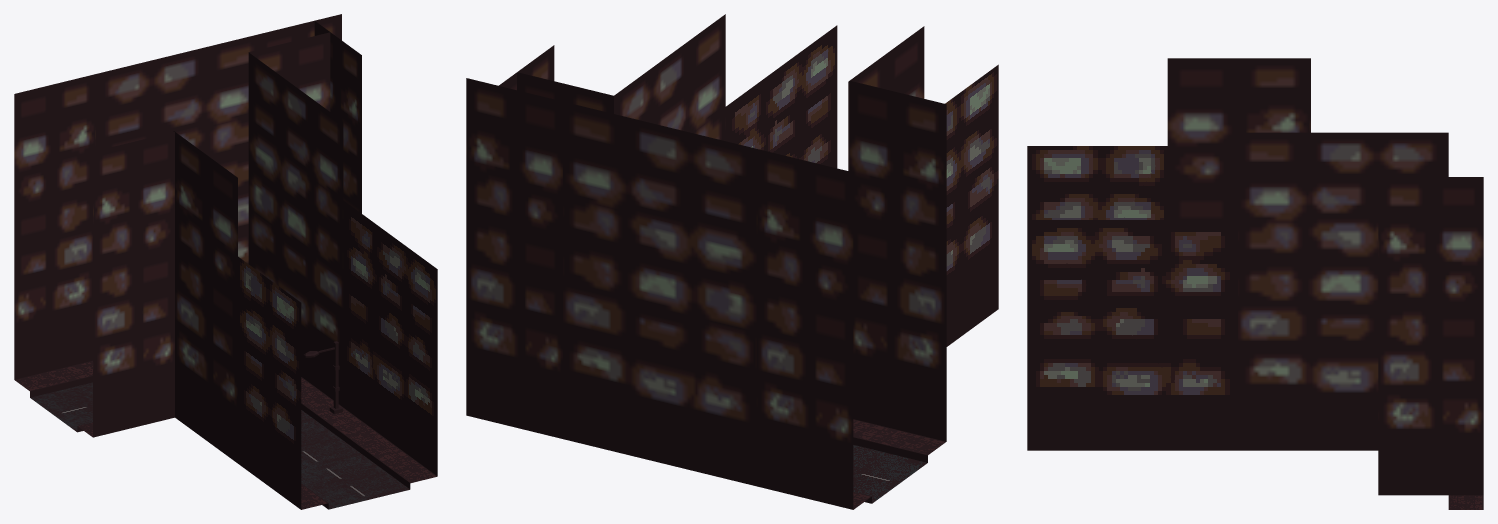
File: Turn_1.fbx
3 renders of one model, left to right at view 1: azimuth 30°, elevation 25°; view 2: azimuth 150°, elevation 25°; view 3: azimuth 270°, elevation 25°, orthographic. The views are drawn at different scales.
Parts seen in each view (by area): view 1: pPlane37, pPlane22, pPlane41, pPlane24, pPlane35, pPlane42, pPlane36, pPlane45, Road, pPlane44, Road1, Road5 (+6 smaller); view 2: pPlane42, pPlane41, pPlane43, pPlane37, pPlane36, pPlane24, pPlane22, pPlane35, Road5, pPlane44, pPlane11, pPlane45; view 3: pPlane24, pPlane22, pPlane45, pPlane35, pPlane36, pPlane40.
Boxes of the visible parts, x1,y1,x2,y2 form: pPlane37: (93,132,174,437); pPlane22: (248,52,343,406); pPlane41: (14,74,95,379); pPlane24: (343,200,437,476); pPlane35: (173,131,237,463); pPlane42: (96,34,259,263); pPlane36: (238,256,301,509); pPlane45: (314,21,361,213); Road: (301,455,409,509); pPlane44: (249,32,330,111); Road1: (301,420,362,469); Road5: (30,382,92,431); pPlane42: (563,101,756,486); pPlane41: (756,149,853,509); pPlane43: (466,78,562,438); pPlane37: (849,80,946,441); pPlane36: (945,64,998,346); pPlane24: (725,25,837,168); pPlane22: (614,14,725,140); pPlane35: (848,26,924,171); Road5: (853,445,927,503); pPlane44: (517,72,613,113); pPlane11: (853,419,946,455); pPlane45: (499,45,554,90); pPlane24: (1027,220,1237,450); pPlane22: (1238,132,1448,450); pPlane45: (1378,177,1483,495); pPlane35: (1167,58,1310,219); pPlane36: (1027,146,1167,219); pPlane40: (1448,495,1483,509).
Bounding box in the file's own units: 24 × 20.44 × 26.
Materials: 8 (8 with a texture image).
